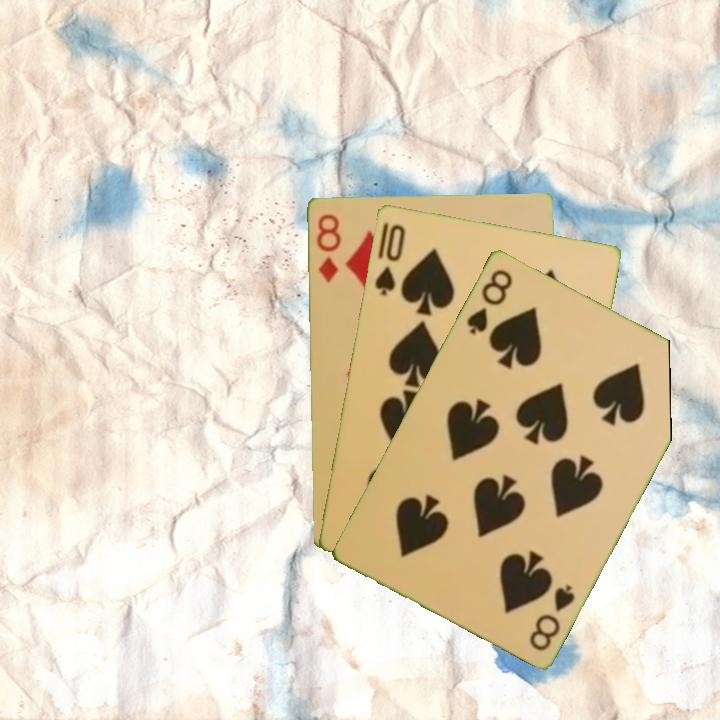10s: (371, 220, 408, 298)
8d: (313, 210, 343, 285)
8s: (462, 265, 516, 338), (525, 580, 578, 653)
